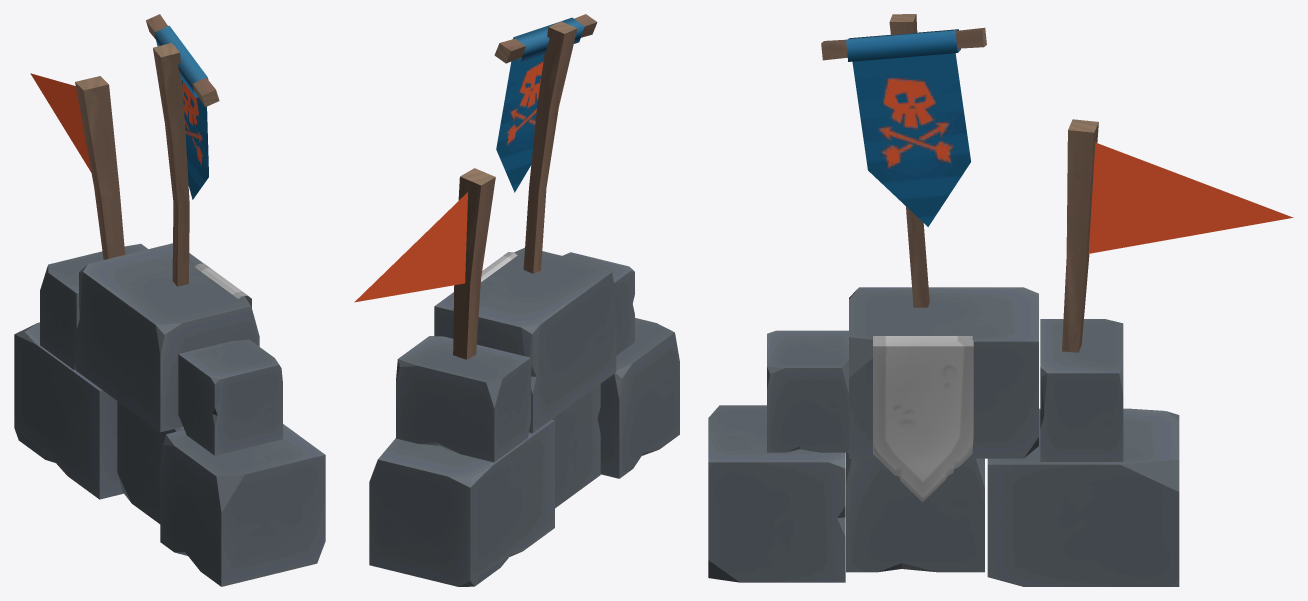
File: Wall1B-004_40_25_4216.fbx
3 renders of one model, left to right at view 1: azimuth 30°, elevation 25°; view 2: azimuth 150°, elevation 25°; view 3: azimuth 270°, elevation 25°, orthographic. The views are drawn at different scales.
Visible parts, largest first — view 1: 1B_Wall4, Wood1.002 (1) (×2), Flag2 (2), Flag1.001 (1), ClothTop3 (2), WoodTop (2), Plane_002 (3); view 2: 1B_Wall4, Wood1.002 (1) (×2), Flag1.001 (1), Flag2 (2), ClothTop3 (2), WoodTop (2); view 3: 1B_Wall4, Flag2 (2), Plane_002 (3), Flag1.001 (1), Wood1.002 (1) (×2), ClothTop3 (2), WoodTop (2).
Boxes of the visible parts, x1,y1,x2,y2 form: 1B_Wall4: [14, 243, 325, 586]; Wood1.002 (1) (×2): [75, 43, 189, 286]; Flag2 (2): [182, 80, 208, 199]; Flag1.001 (1): [30, 73, 91, 172]; ClothTop3 (2): [154, 25, 208, 97]; WoodTop (2): [146, 14, 219, 106]; Plane_002 (3): [194, 263, 251, 307]; 1B_Wall4: [369, 247, 679, 586]; Wood1.002 (1) (×2): [453, 21, 577, 359]; Flag1.001 (1): [354, 192, 467, 302]; Flag2 (2): [496, 54, 544, 192]; ClothTop3 (2): [513, 17, 584, 61]; WoodTop (2): [494, 14, 597, 63]; 1B_Wall4: [708, 287, 1179, 586]; Flag2 (2): [852, 53, 970, 226]; Plane_002 (3): [873, 336, 973, 501]; Flag1.001 (1): [1088, 142, 1293, 253]; Wood1.002 (1) (×2): [889, 14, 1098, 352]; ClothTop3 (2): [846, 29, 960, 61]; WoodTop (2): [821, 27, 986, 60].
Size of the model in its own units: 0.9902 by 4.3 by 4.28.
